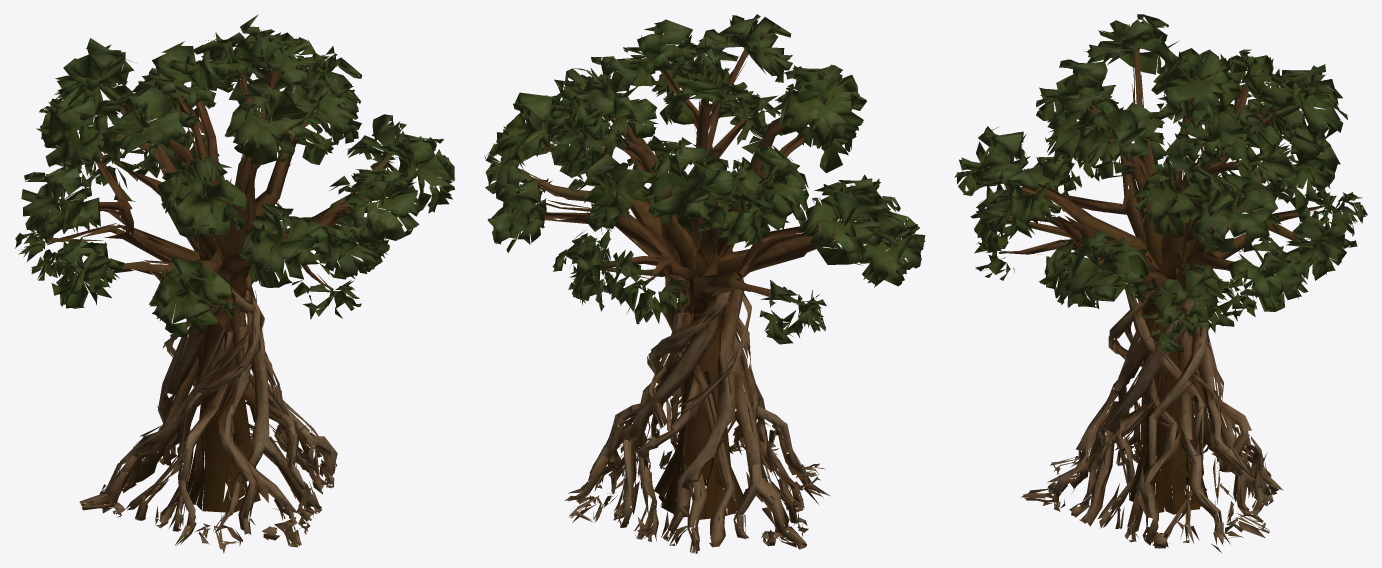
File: jun_strangler_fig_tree_LOD1.glb
3 renders of one model, left to right at view 1: azimuth 30°, elevation 25°; view 2: azimuth 150°, elevation 25°; view 3: azimuth 270°, elevation 25°, orthographic. The views are drawn at different scales.
Parts seen in each view (by area): view 1: tripo_node_99fa390e-cb52-41d6-ba5c-23c81ccb37db; view 2: tripo_node_99fa390e-cb52-41d6-ba5c-23c81ccb37db; view 3: tripo_node_99fa390e-cb52-41d6-ba5c-23c81ccb37db.
Boxes of the visible parts, bbox=[...] form: tripo_node_99fa390e-cb52-41d6-ba5c-23c81ccb37db: bbox=[15, 14, 454, 553]; tripo_node_99fa390e-cb52-41d6-ba5c-23c81ccb37db: bbox=[484, 14, 925, 553]; tripo_node_99fa390e-cb52-41d6-ba5c-23c81ccb37db: bbox=[954, 14, 1367, 552].
Bounding box in the file's own units: 0.9285 × 1.02 × 0.8576.
Materials: 1 (1 with a texture image).
